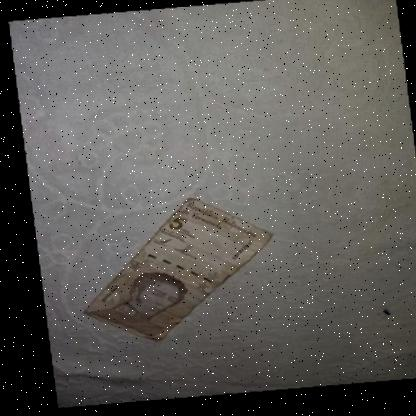five-front-vef: (67, 192, 276, 349)
